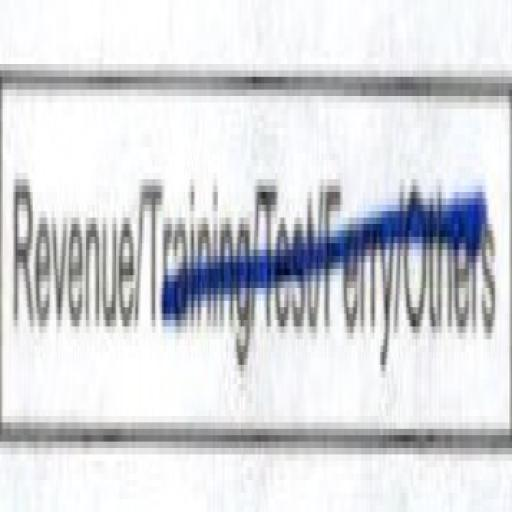check: (6, 68, 137, 420)
